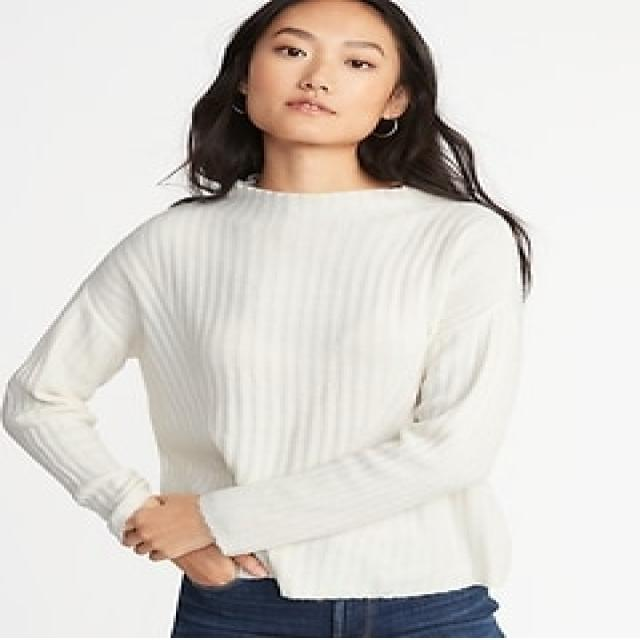mobile_phonerotation: (0, 0, 536, 638)
